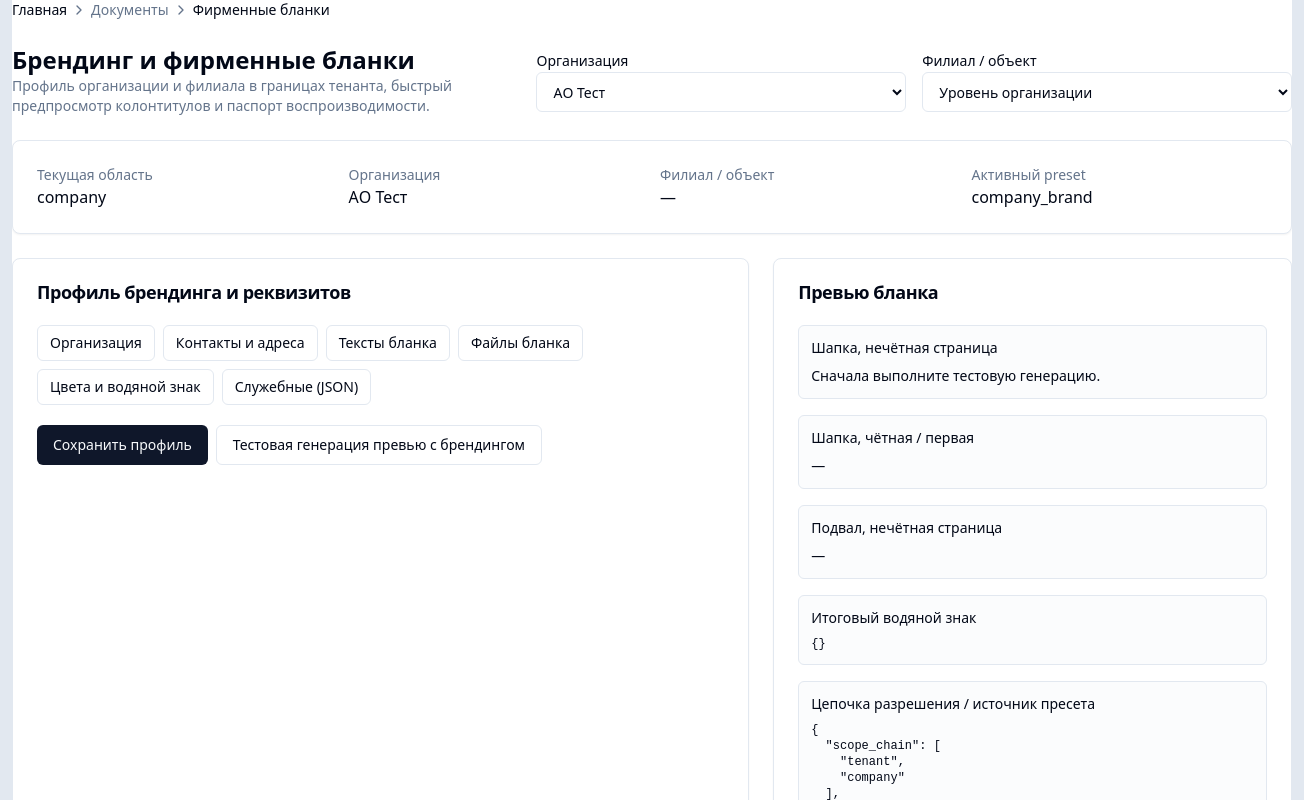
Test case: BrandingSettingsPage › builds branded preview and stores it in recent history
Check: the 1st dropdown showing "АО Тест" is shown, box [536,72,906,112]
Click the button "Тестовая генерация превью с брендингом" at (379, 445), box [216,425,542,465]
(page scrolled)
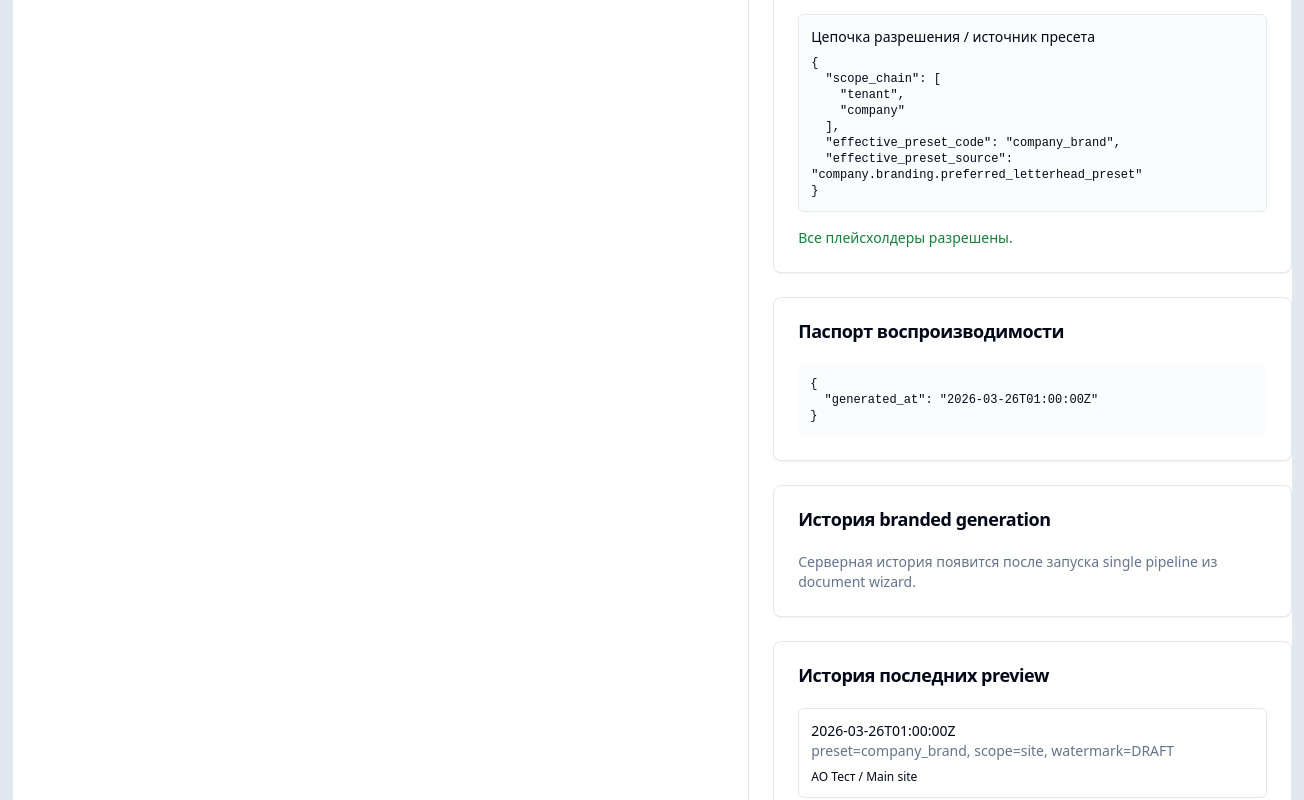
Check: the text "Все плейсхолдеры разрешены." is shown, box [798,228,1013,247]
Check: the text "{ \"generated_at\": \"2026-03-26T01:00:00Z\" }" is shown, box [798,364,1267,436]
